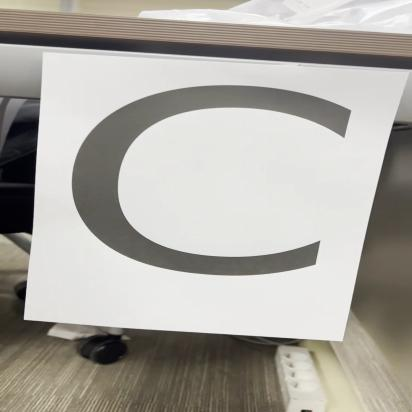seat: (46, 50, 379, 348)
